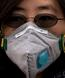with_mask: (1, 2, 65, 78)
